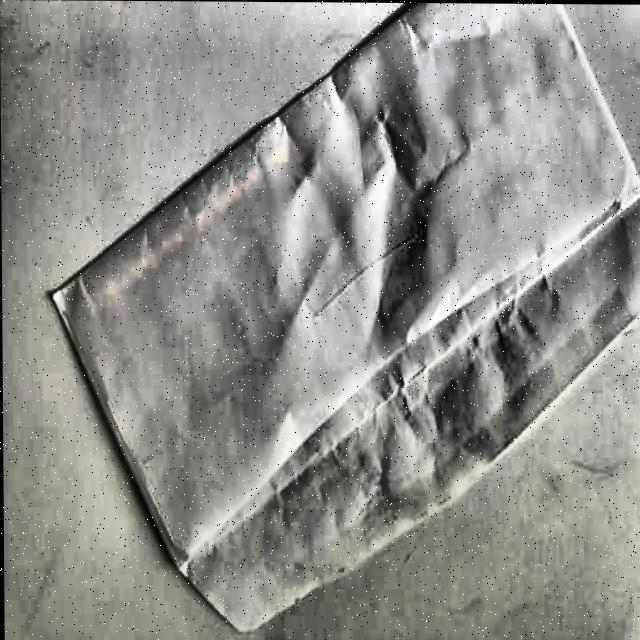paper: (46, 0, 640, 640)
